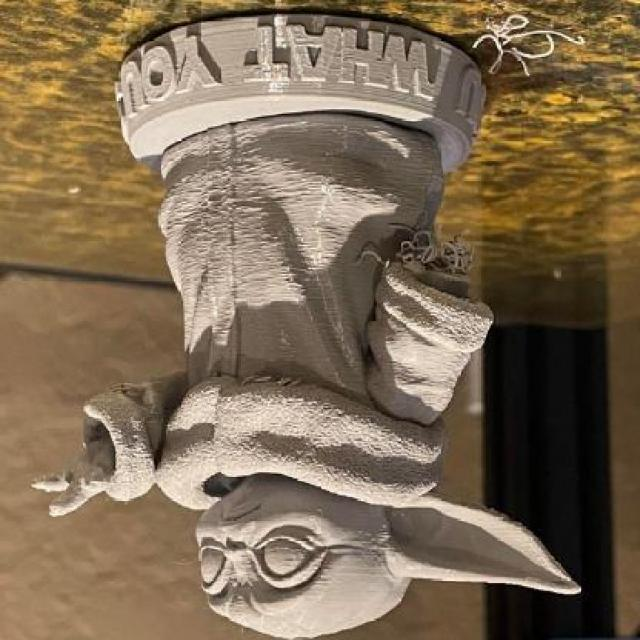spaghetti: (446, 10, 591, 84), (390, 228, 478, 291)
